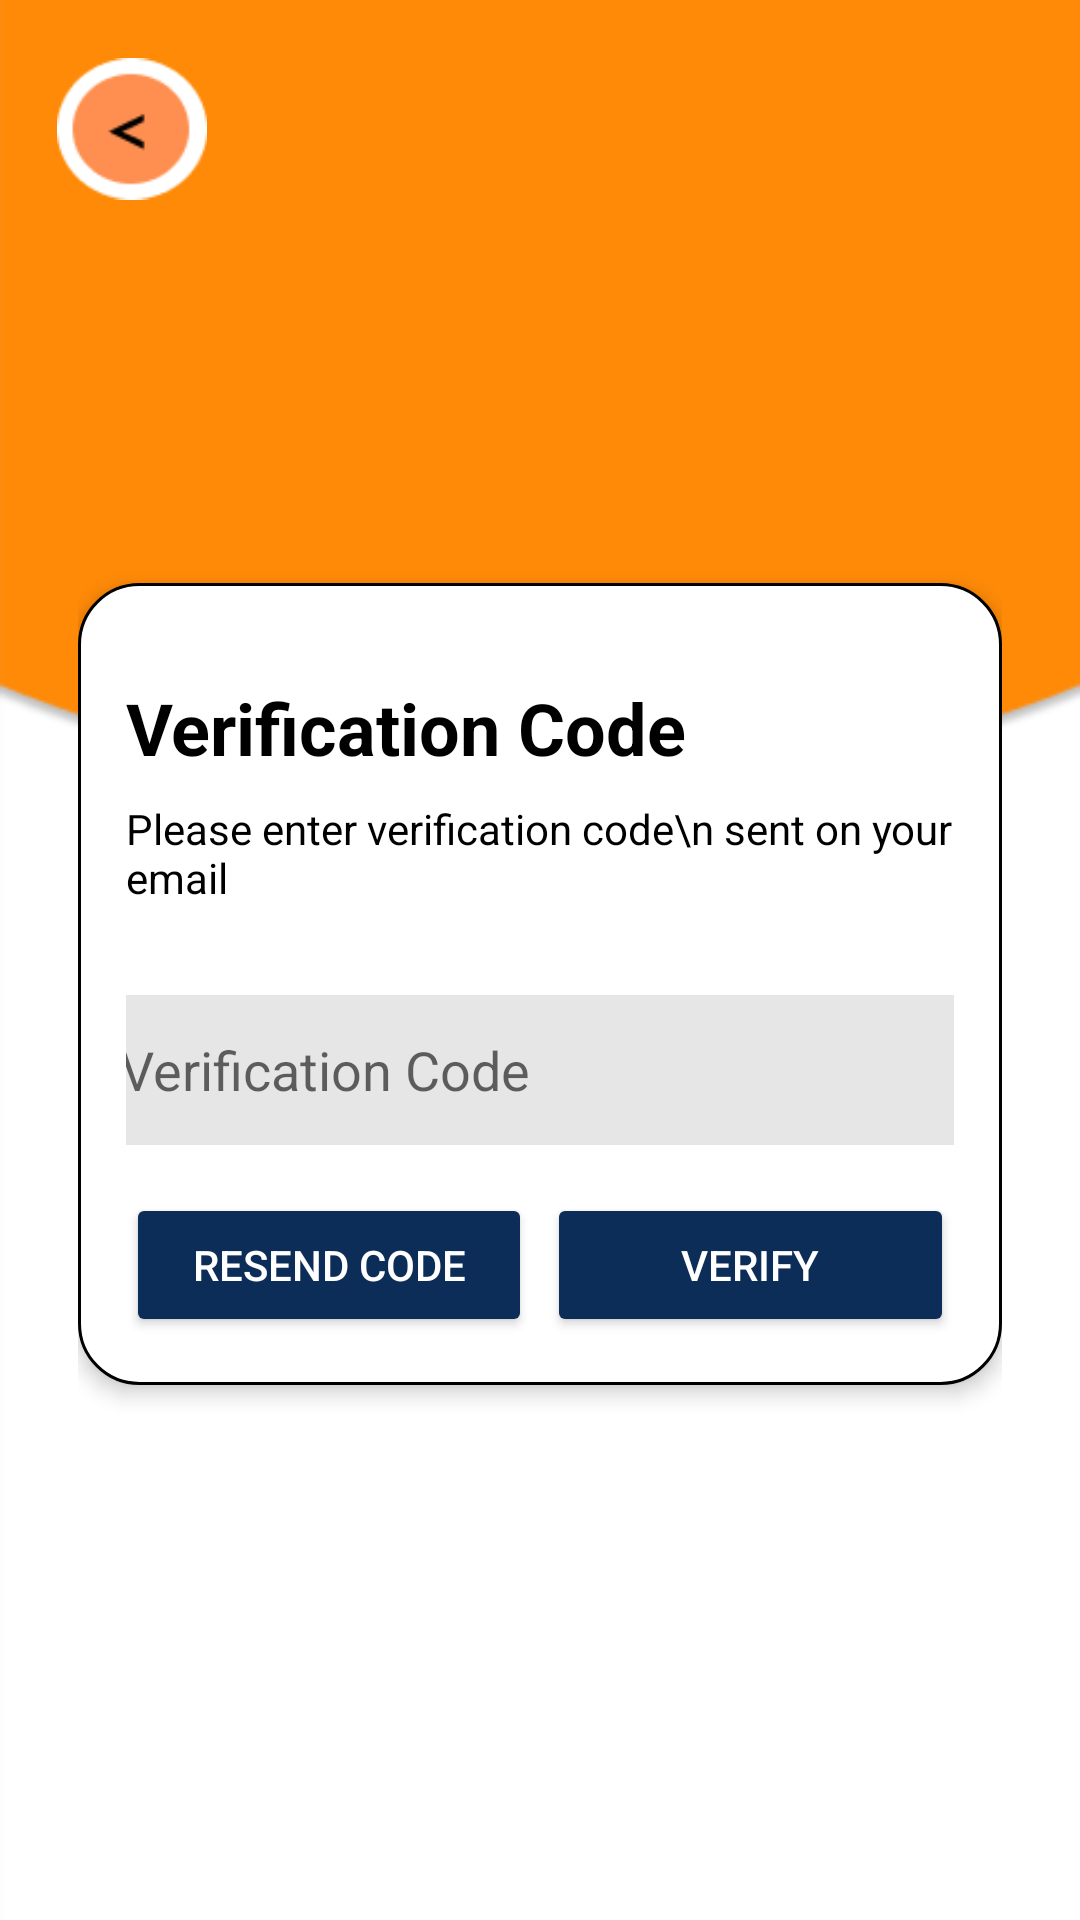

Icons on this 1080 × 1920 Android screen, each with the point to tap as [x,y]:
Back: [132,129]
